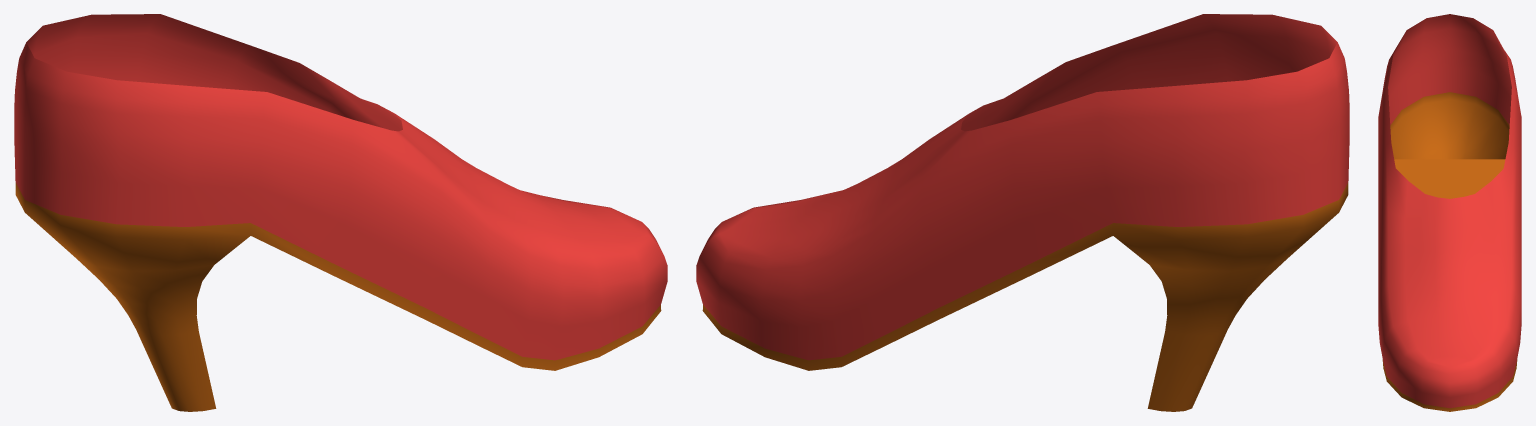
Rendered from high_heeled_shoe.fbx.
3 renders of one model, left to right at view 1: azimuth 30°, elevation 25°; view 2: azimuth 150°, elevation 25°; view 3: azimuth 270°, elevation 25°, orthographic. The views are drawn at different scales.
Visible parts, largest first — view 1: Circle.1807; view 2: Circle.1807; view 3: Circle.1807.
Part boxes in pixels (x1=…): Circle.1807: x1=14, y1=14, x2=667, y2=411; Circle.1807: x1=696, y1=14, x2=1349, y2=411; Circle.1807: x1=1378, y1=14, x2=1521, y2=411.
Size of the model in its own units: 241 by 139 by 81.21.
1 material, 1 textured.
